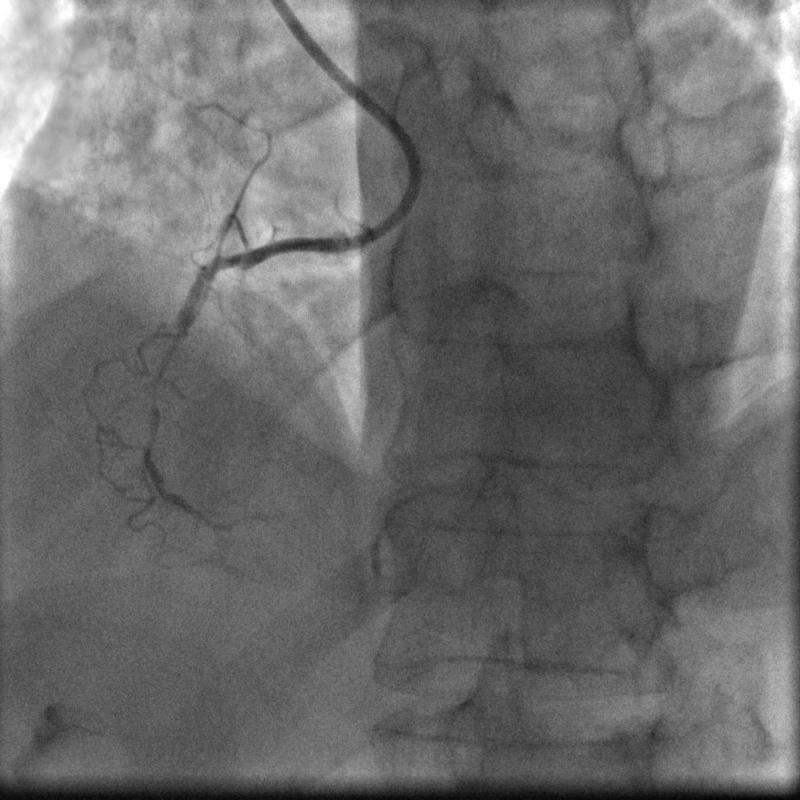Stenosis: (160, 308, 195, 390)
